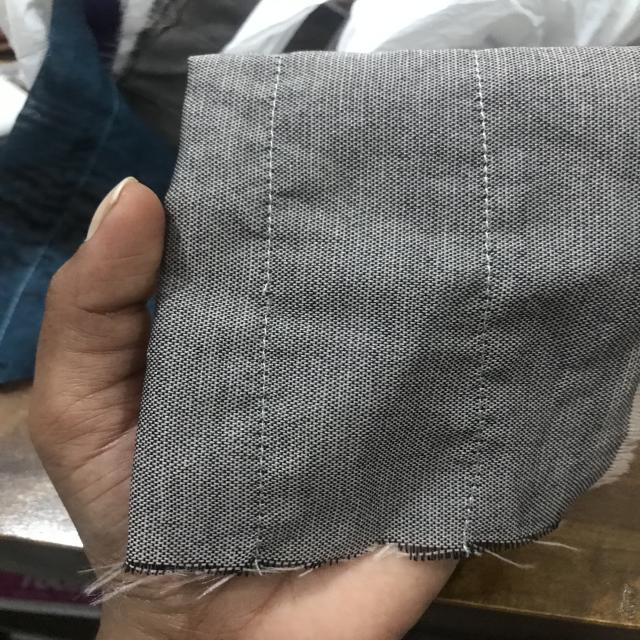good: (472, 106, 503, 248)
